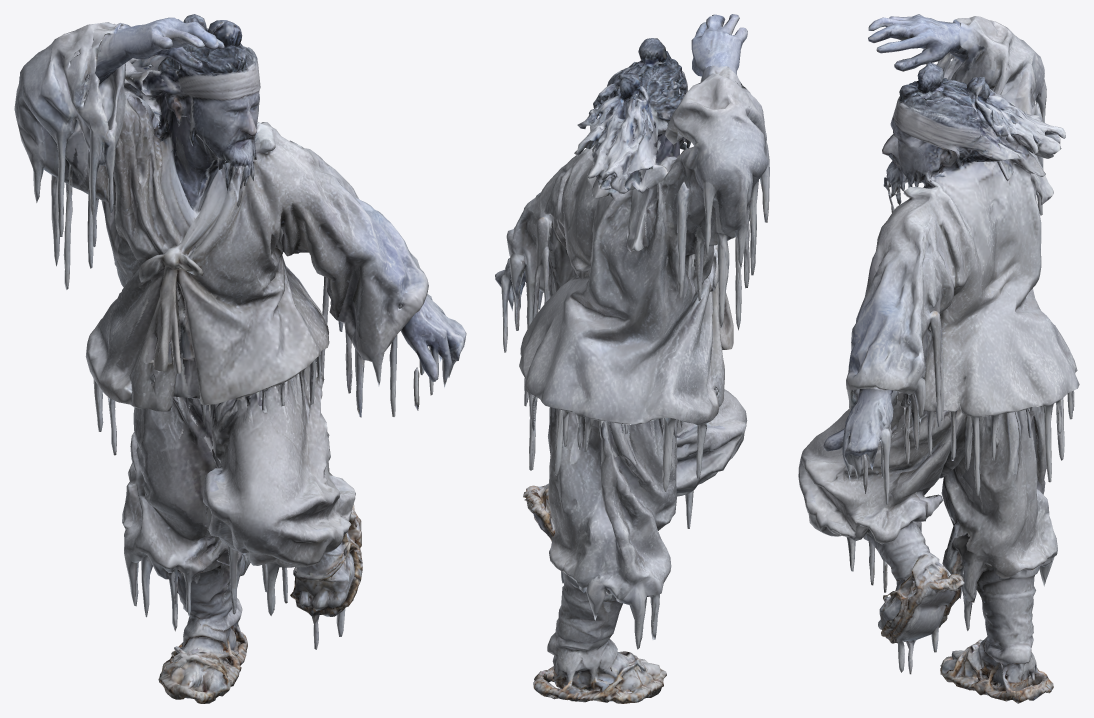
File: PR_FrozenVillager_Farmer.fbx
3 renders of one model, left to right at view 1: azimuth 30°, elevation 25°; view 2: azimuth 150°, elevation 25°; view 3: azimuth 270°, elevation 25°, orthographic. The views are drawn at different scales.
Parts seen in each view (by area): view 1: texture_mapping; view 2: texture_mapping; view 3: texture_mapping.
Part boxes in pixels (left/top/right/bottom): texture_mapping: left=14, top=14, right=466, bottom=703; texture_mapping: left=495, top=14, right=769, bottom=703; texture_mapping: left=798, top=14, right=1079, bottom=703.
Bounding box in the file's own units: 0.529 × 0.3979 × 0.9993.
1 material, 1 textured.
